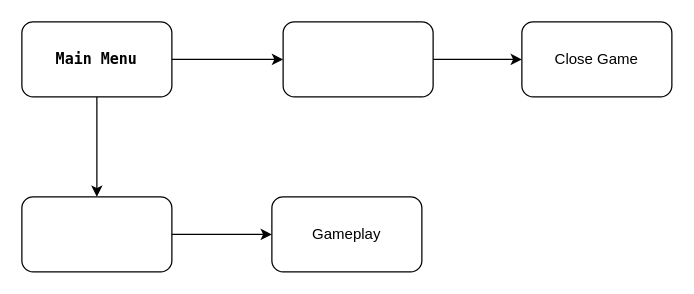
This 694x294 diagram has some shape labels left out. The centre of each missing label's shape, as x and y in pixels:
"Exit Game" goes at pixel 357 59.
"Start Game" goes at pixel 96 234.
